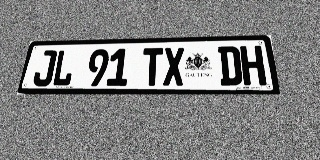1: (106, 48, 130, 86)
9: (86, 49, 110, 86)
D: (218, 46, 243, 85)
H: (240, 46, 267, 85)
J: (32, 50, 58, 86)
L: (51, 50, 76, 86)
T: (141, 48, 163, 86)
X: (163, 47, 184, 86)
